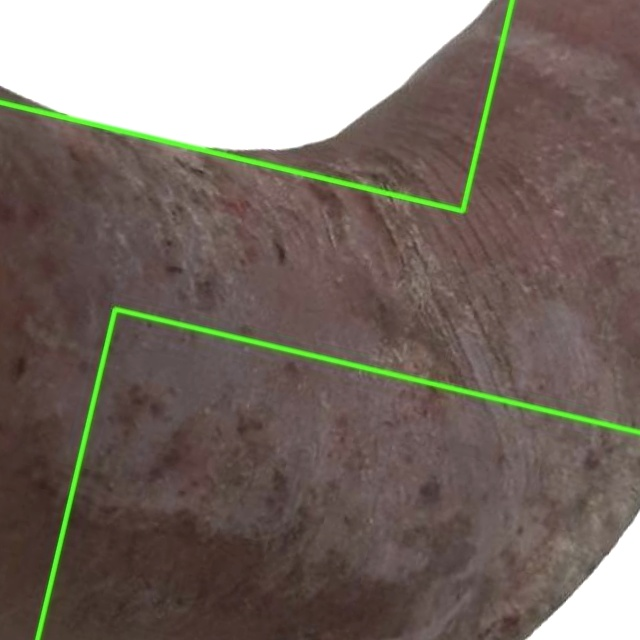Eczema: (37, 309, 639, 639)
